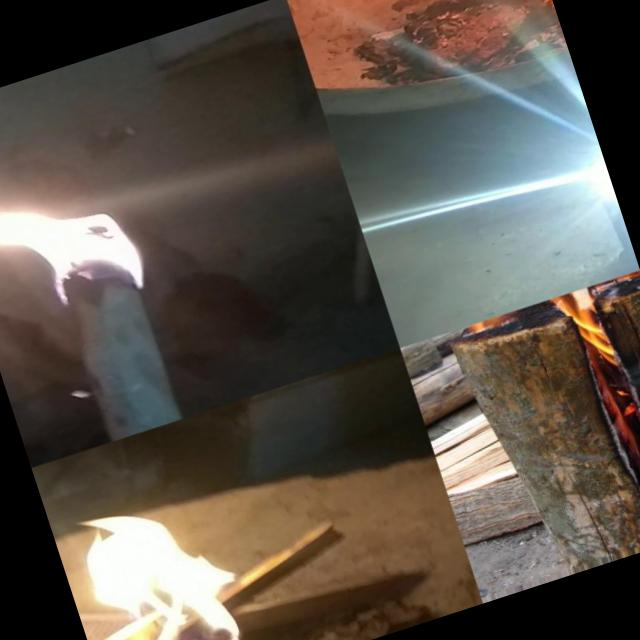fire: (0, 126, 170, 346), (51, 477, 270, 640), (448, 270, 640, 404), (437, 0, 567, 73)
